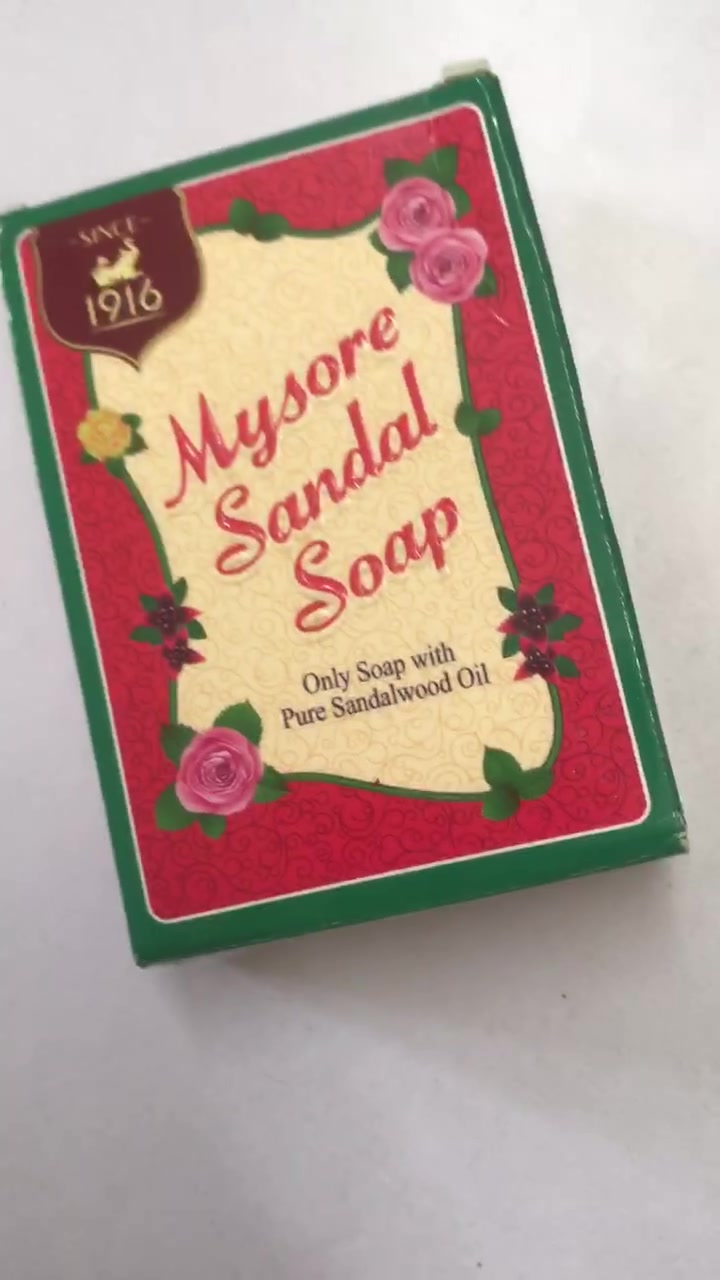mysore sandal soap: (1, 60, 687, 968)
